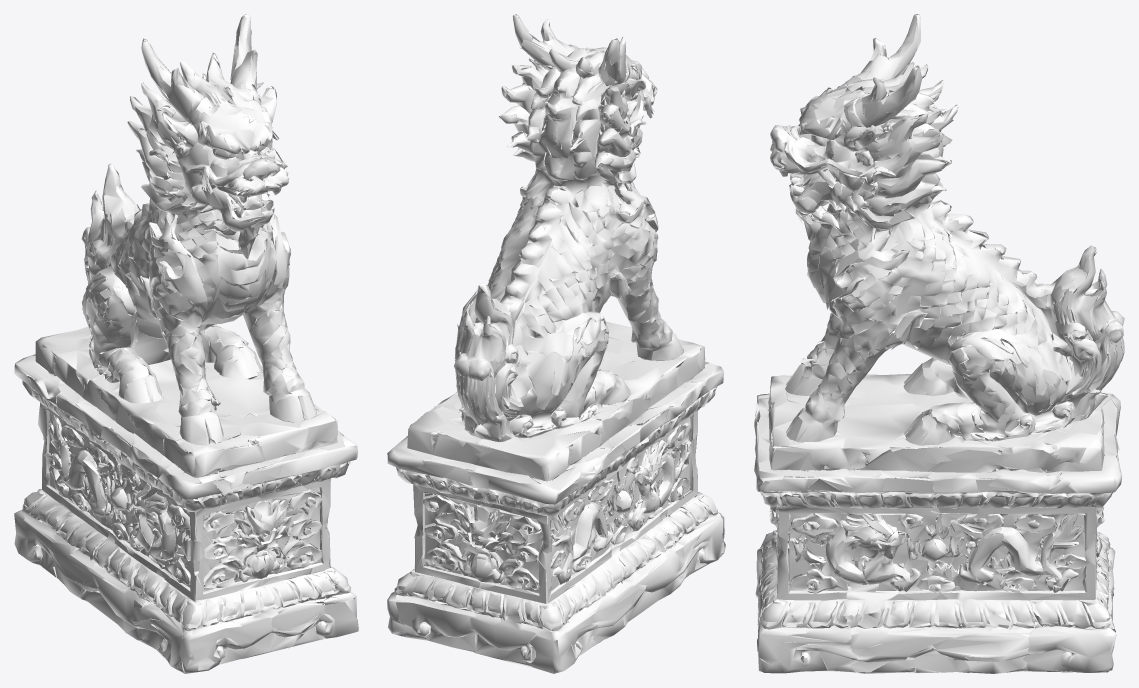
File: qilin_statue_lod1.glb
3 renders of one model, left to right at view 1: azimuth 30°, elevation 25°; view 2: azimuth 150°, elevation 25°; view 3: azimuth 270°, elevation 25°, orthographic. The views are drawn at different scales.
Parts seen in each view (by area): view 1: Mesh_0; view 2: Mesh_0; view 3: Mesh_0.
Boxes of the visible parts, x1=… form: Mesh_0: x1=14, y1=14, x2=358, y2=673; Mesh_0: x1=387, y1=14, x2=725, y2=673; Mesh_0: x1=754, y1=14, x2=1124, y2=673.
Bounding box in the file's own units: 1.01 × 3 × 1.71.
1 material, 1 textured.
